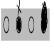no answer: (3, 14, 10, 36), (28, 14, 35, 35)
not correct: (15, 0, 22, 35)
